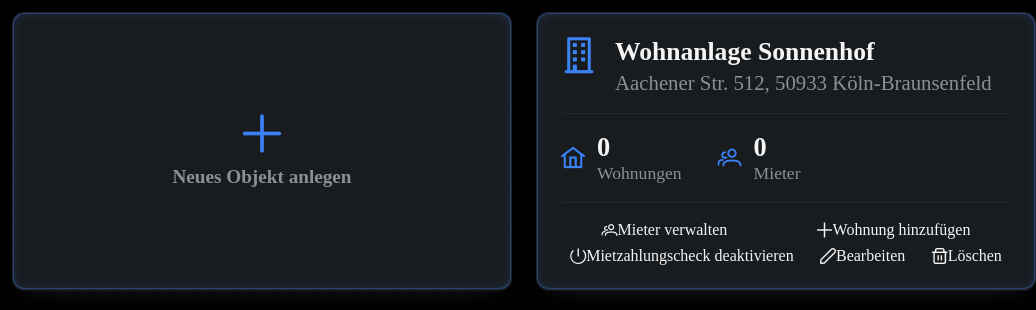
Scenario: PropertyList › deactivates the rent payment check after confirmation and then offers its activation again
Click the button "Mietzahlungscheck deaktivieren" at (682, 256), box [561,247,803,265]
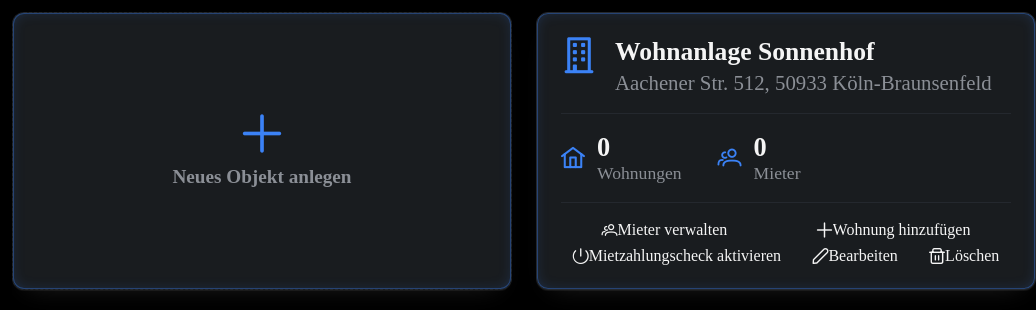
Expected: the button "Mietzahlungscheck aktivieren" is shown, [561,247,793,265]
